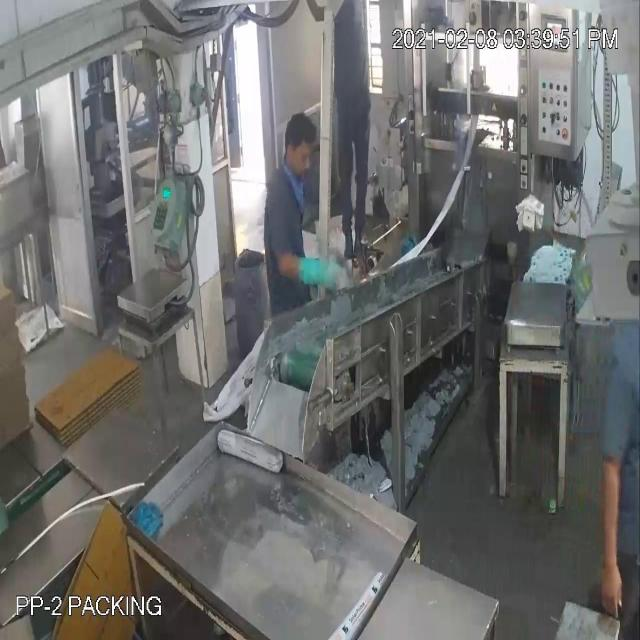No_Gloves: (40, 68, 610, 530)
